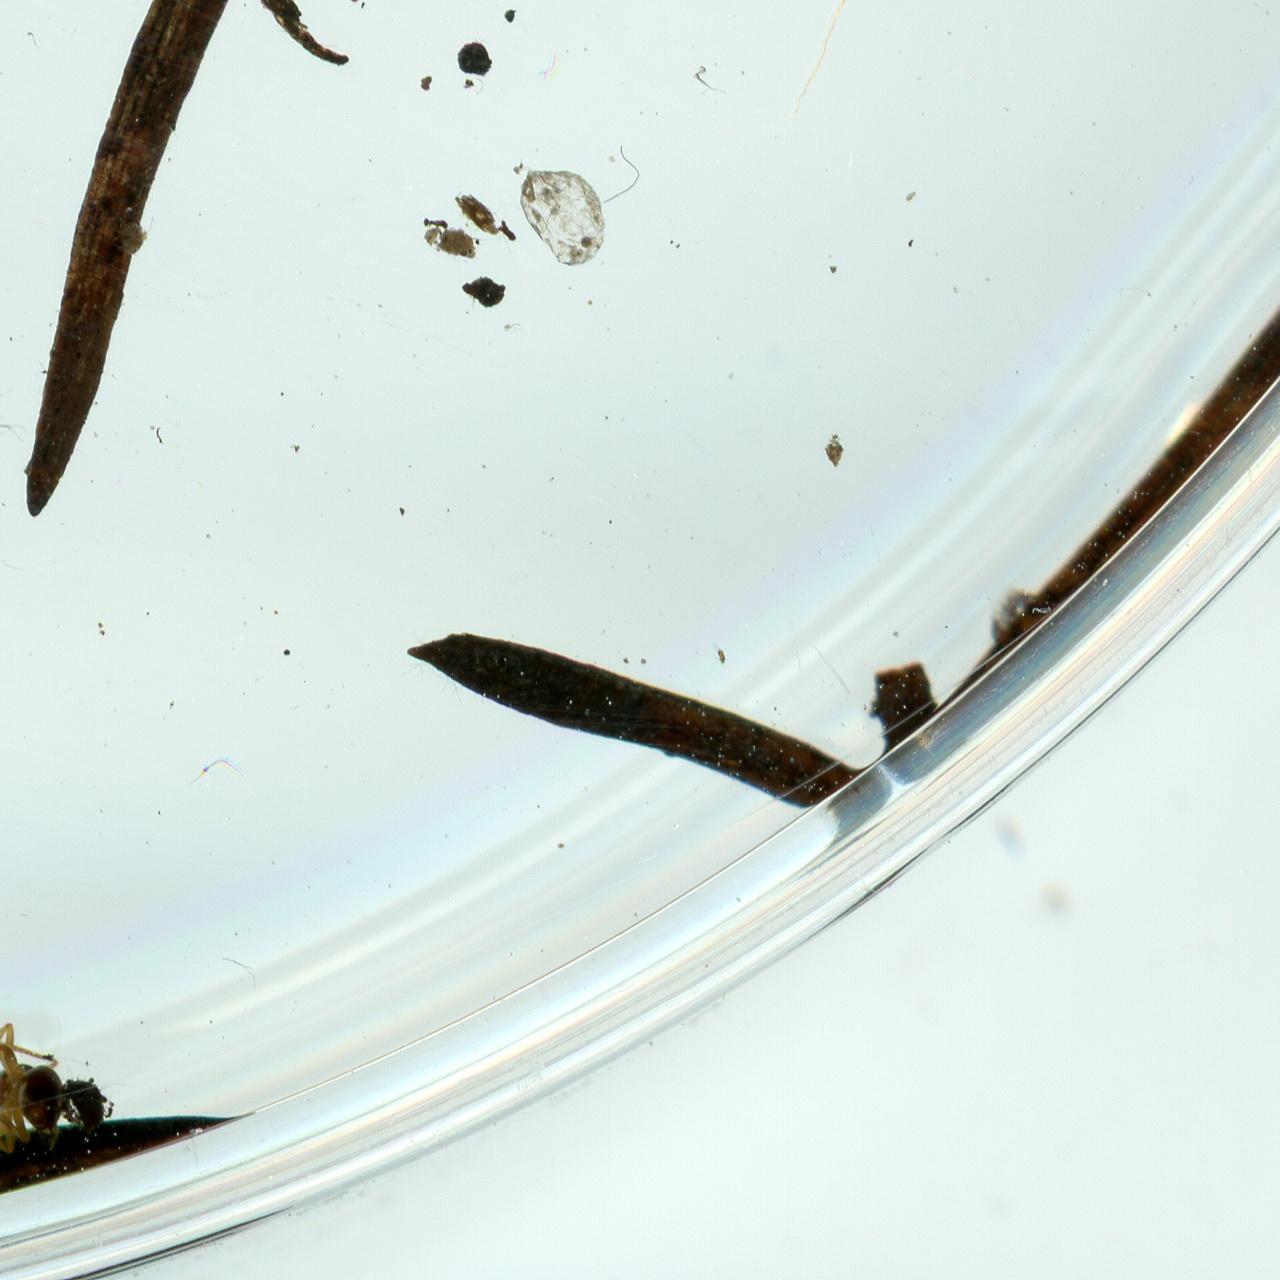arthropod: (0, 1016, 73, 1199)
